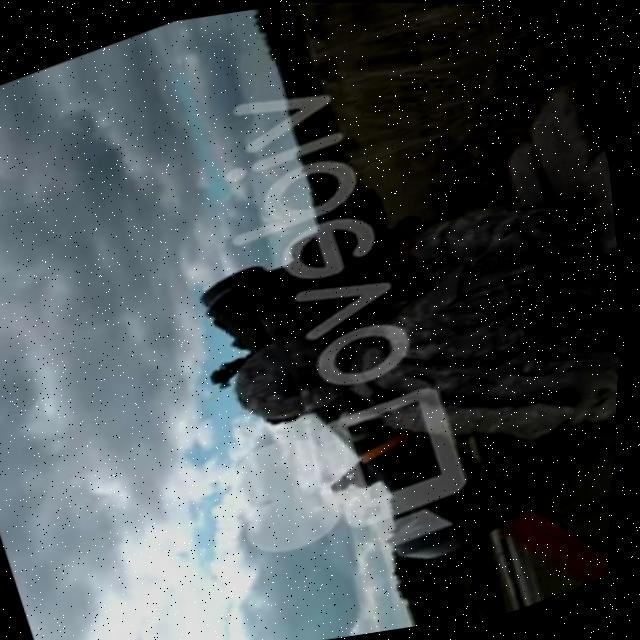rocket: (176, 180, 578, 612)
